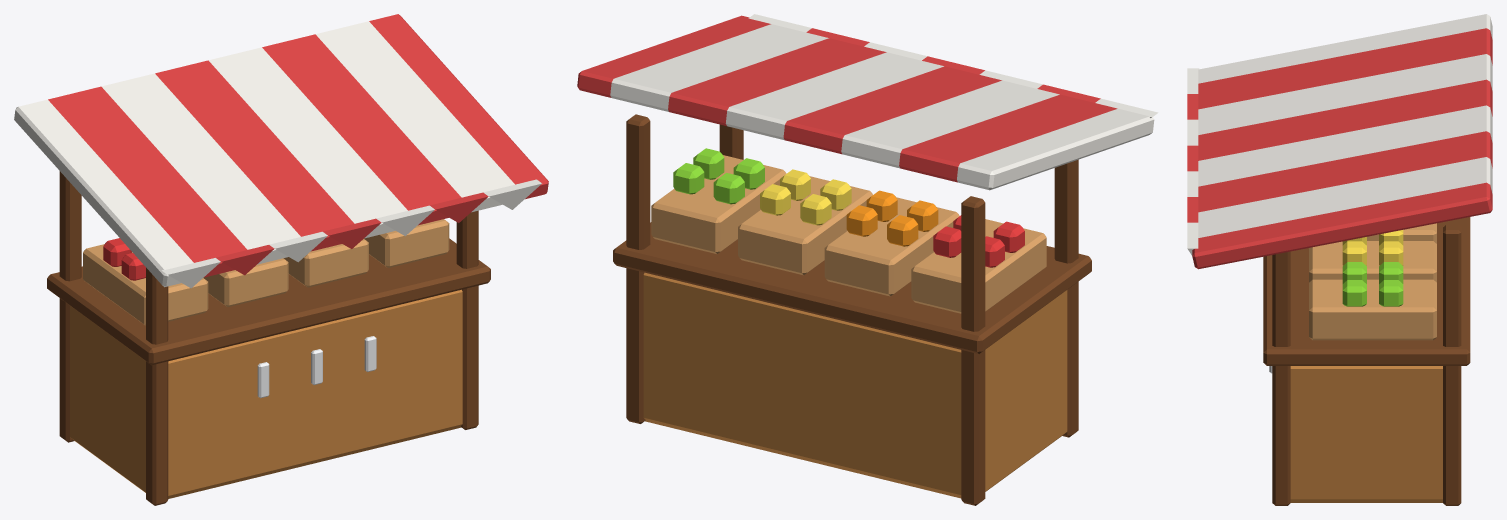
Rendered from MarketStall.fbx.
3 renders of one model, left to right at view 1: azimuth 30°, elevation 25°; view 2: azimuth 150°, elevation 25°; view 3: azimuth 270°, elevation 25°, orthographic. The views are drawn at different scales.
Visible parts, largest first — view 1: MarketStall; view 2: MarketStall; view 3: MarketStall.
Boxes of the visible parts, bbox=[...] form: MarketStall: bbox=[14, 14, 548, 505]; MarketStall: bbox=[577, 14, 1158, 505]; MarketStall: bbox=[1187, 14, 1492, 505].
Bounding box in the file's own units: 7.2 × 5.86 × 5.02.
Materials: 1 (1 with a texture image).
